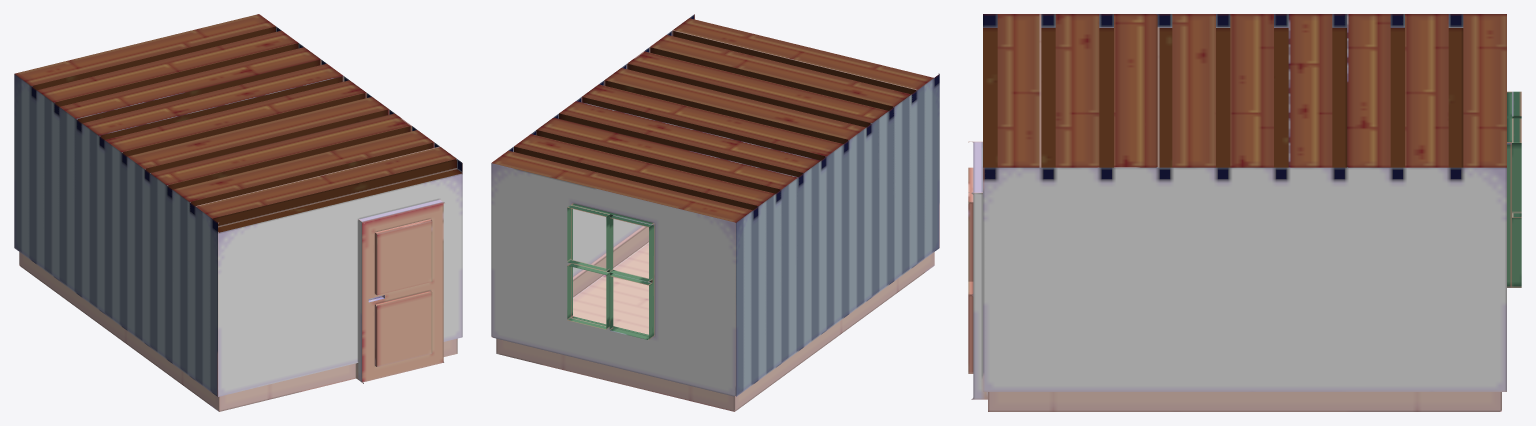
Rendered from room.fbx.
The picture shows the model from 3 angles, left to right: view 1: azimuth 30°, elevation 25°; view 2: azimuth 150°, elevation 25°; view 3: azimuth 270°, elevation 25°; orthographic projection. The views are drawn at different scales.
Parts seen in each view (by area): view 1: Plane; view 2: Plane; view 3: Plane.
Part boxes in pixels (x1,y1,x2,y2): Plane: [14, 14, 462, 411]; Plane: [491, 14, 939, 411]; Plane: [968, 14, 1521, 411].
Size of the model in its own units: 750 by 560 by 1140.
